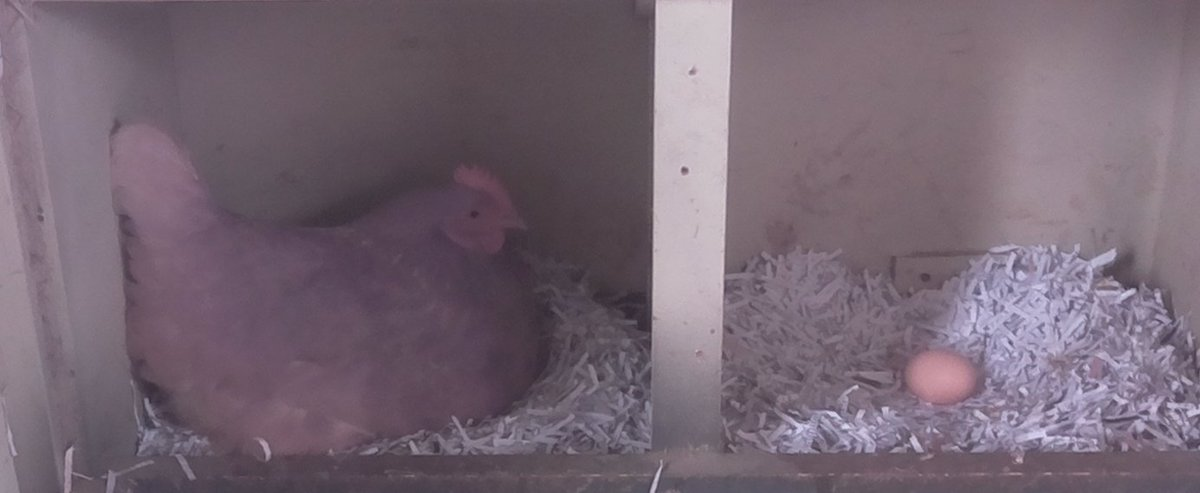egg: (896, 347, 980, 409)
hen: (103, 112, 555, 462)
